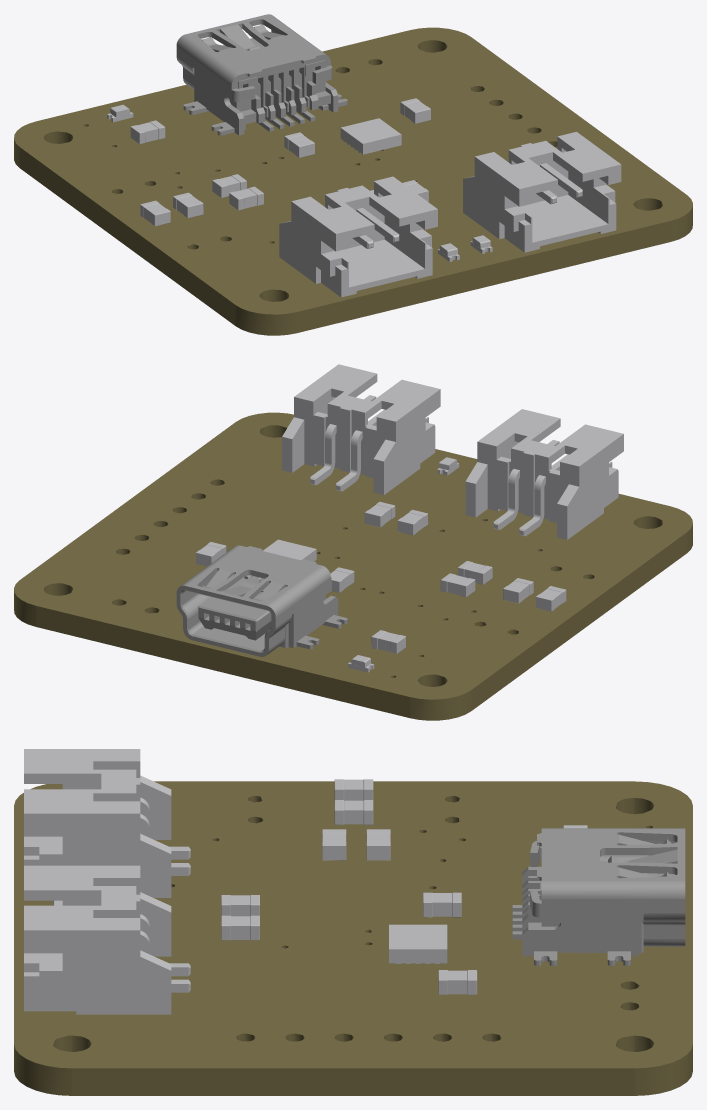
File: ada-259.glb
3 views of the same model, one above another, from view 1: azimuth 30°, elevation 25°; view 2: azimuth 150°, elevation 25°; view 3: azimuth 270°, elevation 25° (orthographic). The views are drawn at different scales.
Parts seen in each view (by area): view 1: 0.16666666666666666_0.16666666666666666_0.08333333333333333_, 0.5833333333333334_0.5833333333333334_0.5833333333333334_0.8, 0.3333333333333333_0.3333333333333333_0.3333333333333333_0; view 2: 0.16666666666666666_0.16666666666666666_0.08333333333333333_, 0.5833333333333334_0.5833333333333334_0.5833333333333334_0.8, 0.3333333333333333_0.3333333333333333_0.3333333333333333_0; view 3: 0.16666666666666666_0.16666666666666666_0.08333333333333333_, 0.5833333333333334_0.5833333333333334_0.5833333333333334_0.8, 0.3333333333333333_0.3333333333333333_0.3333333333333333_0.
Boxes of the visible parts, x1=… form: 0.16666666666666666_0.16666666666666666_0.08333333333333333_: x1=14, y1=27, x2=692, y2=335; 0.5833333333333334_0.5833333333333334_0.5833333333333334_0.8: x1=107, y1=98, x2=621, y2=297; 0.3333333333333333_0.3333333333333333_0.3333333333333333_0: x1=176, y1=14, x2=347, y2=135; 0.16666666666666666_0.16666666666666666_0.08333333333333333_: x1=14, y1=412, x2=692, y2=720; 0.5833333333333334_0.5833333333333334_0.5833333333333334_0.8: x1=196, y1=364, x2=623, y2=672; 0.3333333333333333_0.3333333333333333_0.3333333333333333_0: x1=176, y1=545, x2=347, y2=656; 0.16666666666666666_0.16666666666666666_0.08333333333333333_: x1=14, y1=781, x2=692, y2=1095; 0.5833333333333334_0.5833333333333334_0.5833333333333334_0.8: x1=24, y1=749, x2=587, y2=1014; 0.3333333333333333_0.3333333333333333_0.3333333333333333_0: x1=512, y1=828, x2=685, y2=965.
Bounding box in the file's own units: 3.5 × 0.6368 × 3.5.
